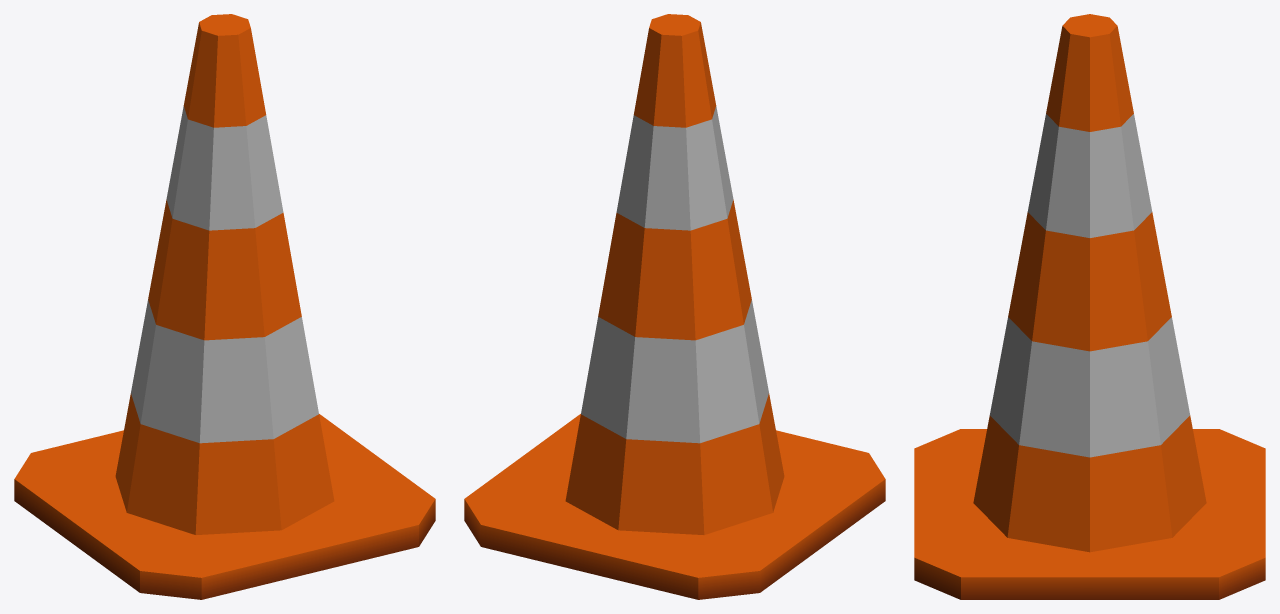
3 views of the same model, side by side, from view 1: azimuth 30°, elevation 25°; view 2: azimuth 150°, elevation 25°; view 3: azimuth 270°, elevation 25° (orthographic). The views are drawn at different scales.
Visible parts, largest first — view 1: isl_Cone_01_DEF.obj; view 2: isl_Cone_01_DEF.obj; view 3: isl_Cone_01_DEF.obj.
Part boxes in pixels (x1,y1,x2,y2): isl_Cone_01_DEF.obj: (14,14,435,599); isl_Cone_01_DEF.obj: (464,14,885,599); isl_Cone_01_DEF.obj: (914,14,1265,599).
Size of the model in its own units: 35 by 55 by 35.
